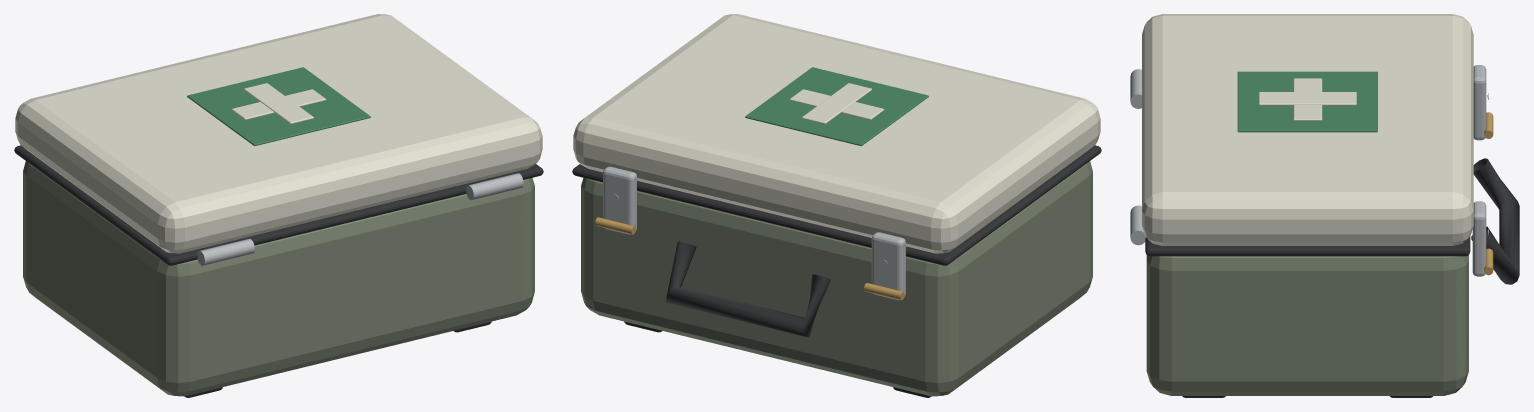
File: medkit.glb
3 views of the same model, side by side, from view 1: azimuth 30°, elevation 25°; view 2: azimuth 150°, elevation 25°; view 3: azimuth 270°, elevation 25° (orthographic). The views are drawn at different scales.
Visible parts, largest first — view 1: medkit; view 2: medkit; view 3: medkit.
Boxes of the visible parts, box(x1,y1,x2,y2) form: medkit: box(14, 14, 543, 397); medkit: box(572, 14, 1101, 397); medkit: box(1130, 14, 1519, 397).
Size of the model in its own units: 0.398 by 0.2145 by 0.3378.
